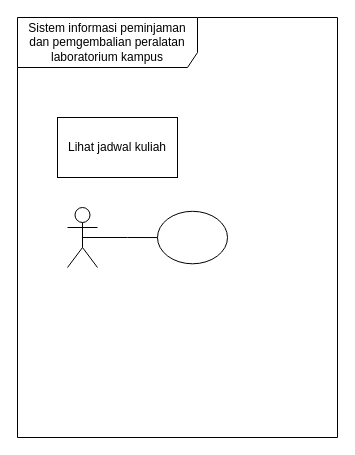
Some shapes in this 355 by 455 pixel diagram are drawn without their labels. Each missing label, with the centre of its shape:
Kelola jadwal kuliah.: point (192, 237)
Mahasiswa: point (82, 237)
